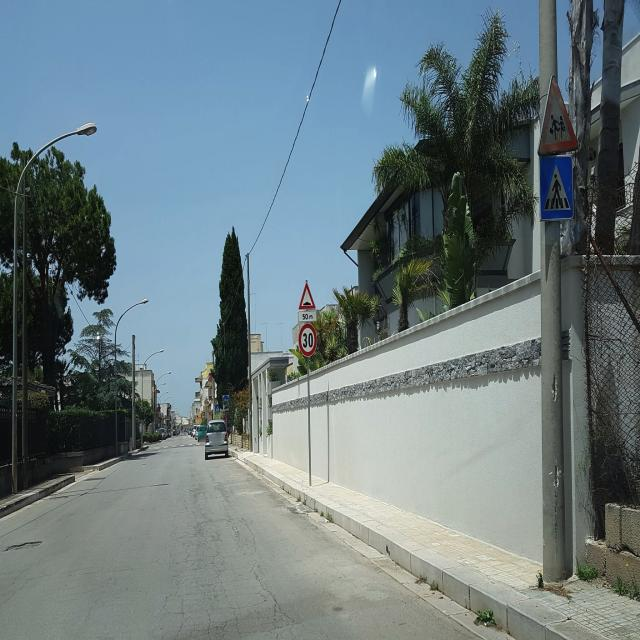car: (204, 418, 228, 460), (196, 424, 206, 442)
